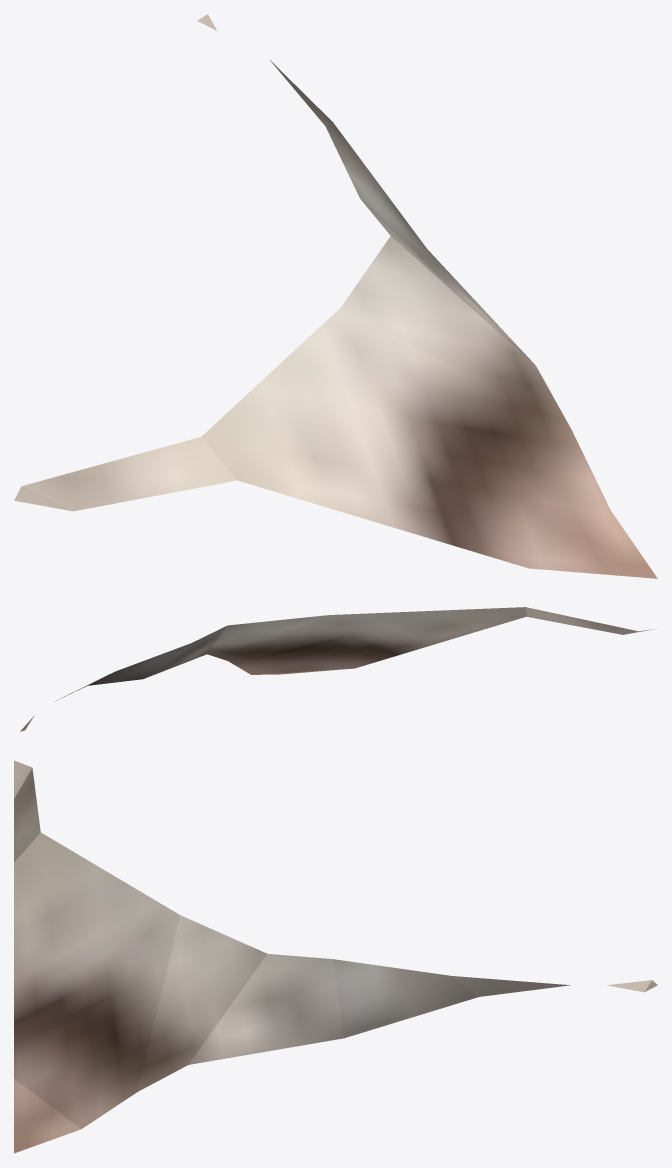
The picture shows the model from 3 angles, top to bottom: view 1: azimuth 30°, elevation 25°; view 2: azimuth 150°, elevation 25°; view 3: azimuth 270°, elevation 25°; orthographic projection. The views are drawn at different scales.
Bounding box in the file's own units: 0.1228 × 0.0429 × 0.1487.
1 material, 1 textured.
